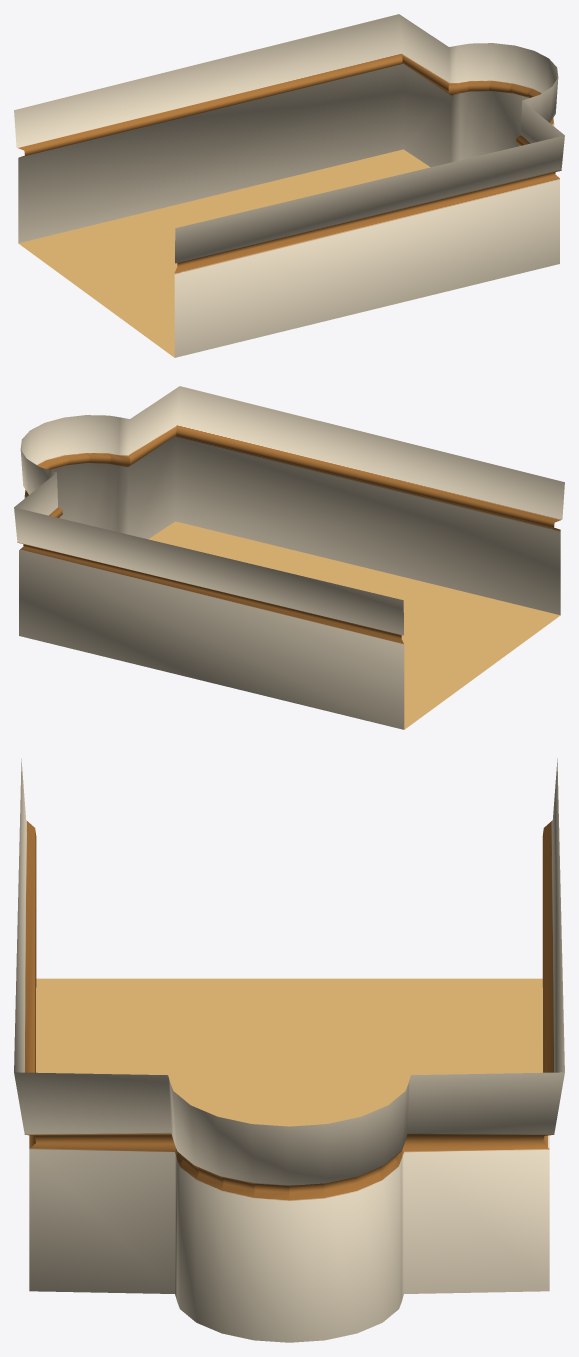
The model's file is Cathedral_hall.fbx.
The picture shows the model from 3 angles, top to bottom: view 1: azimuth 30°, elevation 25°; view 2: azimuth 150°, elevation 25°; view 3: azimuth 270°, elevation 25°; orthographic projection. The views are drawn at different scales.
Visible parts, largest first — view 1: Church_Hall; view 2: Church_Hall; view 3: Church_Hall.
Part boxes in pixels (left/top/right/bottom): Church_Hall: left=14, top=14, right=564, bottom=357; Church_Hall: left=14, top=386, right=564, bottom=729; Church_Hall: left=14, top=758, right=564, bottom=1342.
Size of the model in its own units: 140 by 38.95 by 88.76.
